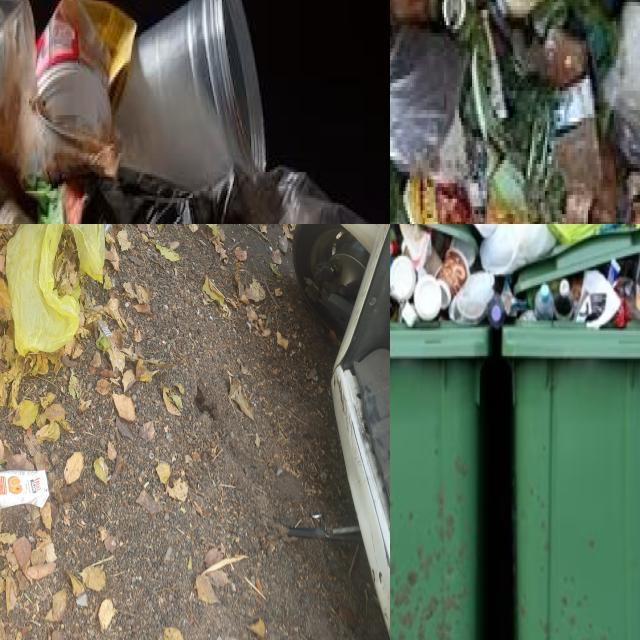Disposable: (437, 246, 470, 307), (534, 284, 554, 318)
Garbage: (0, 224, 387, 640), (390, 0, 640, 224), (390, 224, 640, 328)
Plastic_Bag: (6, 224, 105, 356), (390, 27, 467, 181), (214, 168, 365, 224), (80, 168, 212, 224), (479, 224, 556, 276), (547, 224, 640, 243)
Plastic_Container: (114, 0, 266, 190), (37, 0, 137, 143)
Plastic_bottle: (488, 295, 505, 330)
Plastic_wraper: (403, 178, 480, 224), (484, 157, 530, 224)
Tetrapack: (0, 470, 50, 509)
can: (554, 279, 573, 317)
